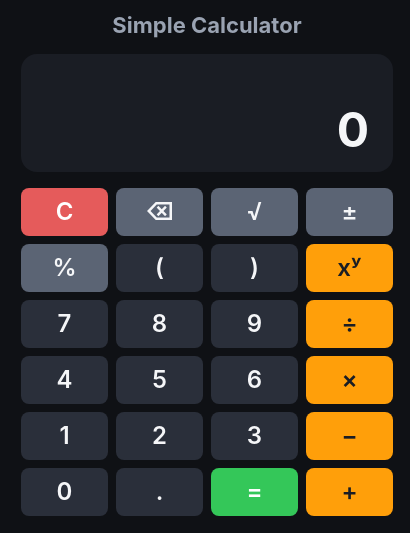
App › clears the display back to 0
Click the button "5" at coordinates (160, 380), box x1=116 y1=356 x2=203 y2=404
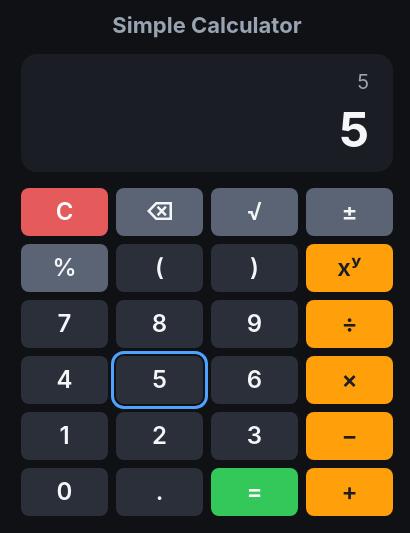
Click the button named "clear" at coordinates (64, 212), box x1=21 y1=188 x2=108 y2=236
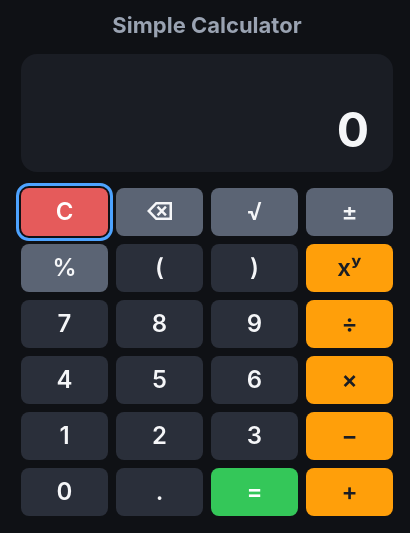
Expected: the message reads "0", x1=337 y1=100 x2=369 y2=159
